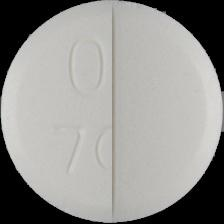0093-5036: (0, 0, 224, 224)
